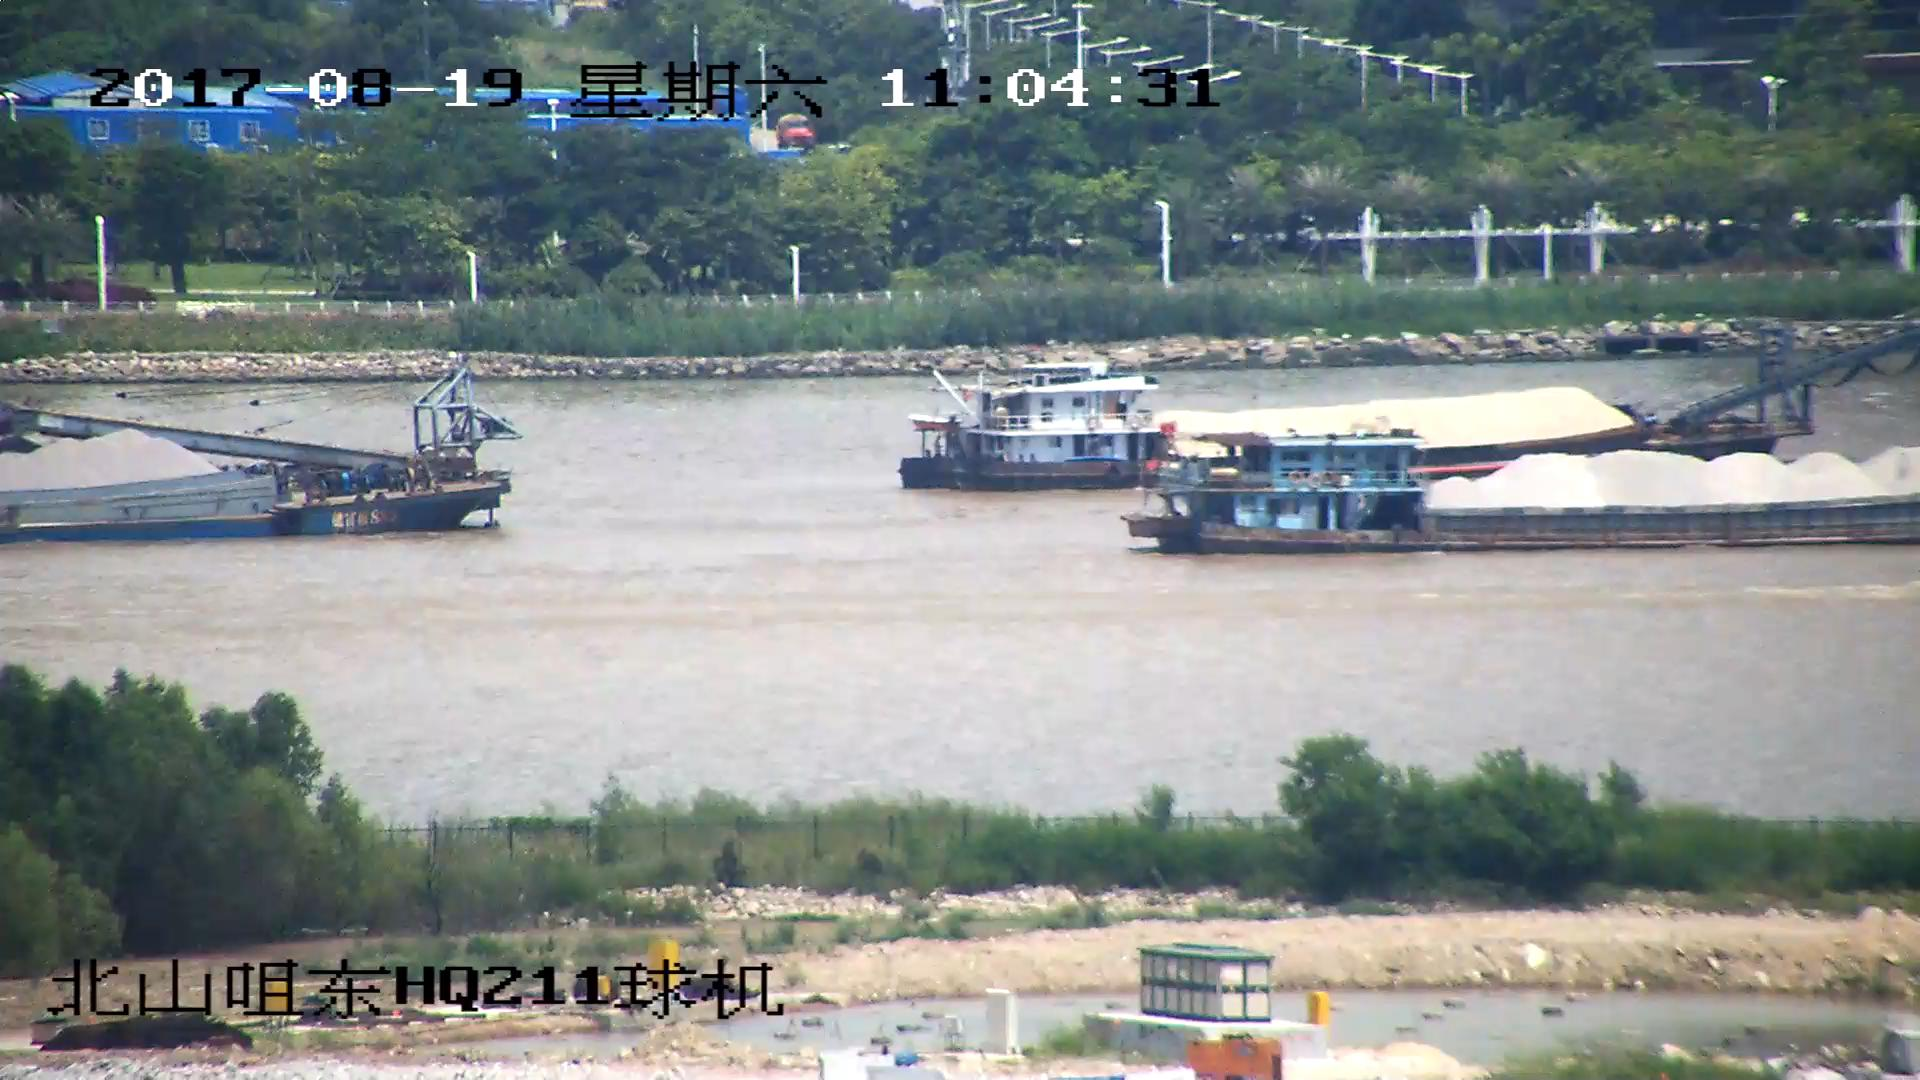ore carrier: (891, 316, 1920, 491), (1132, 431, 1920, 553), (1, 365, 518, 538)
